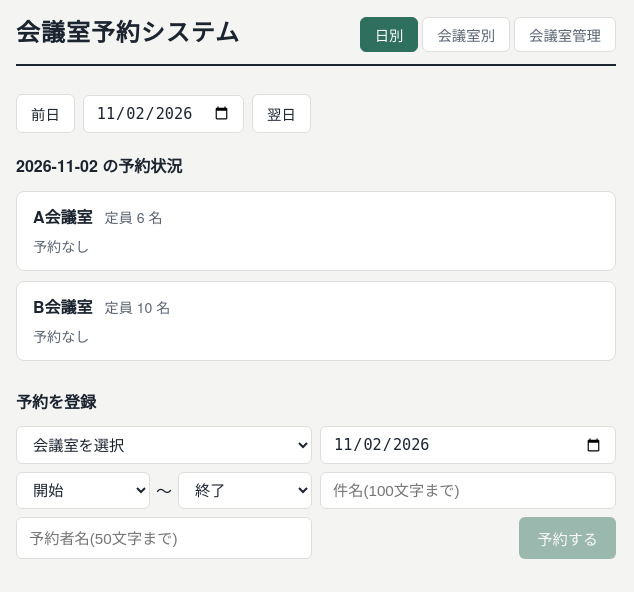
Test case: 会議室管理 › 編集ボタンで行がフォームになり、保存するとPUTが呼ばれ一覧に反映される
Click the button "会議室管理" at [565, 34], box left=514, top=17, right=616, bottom=52
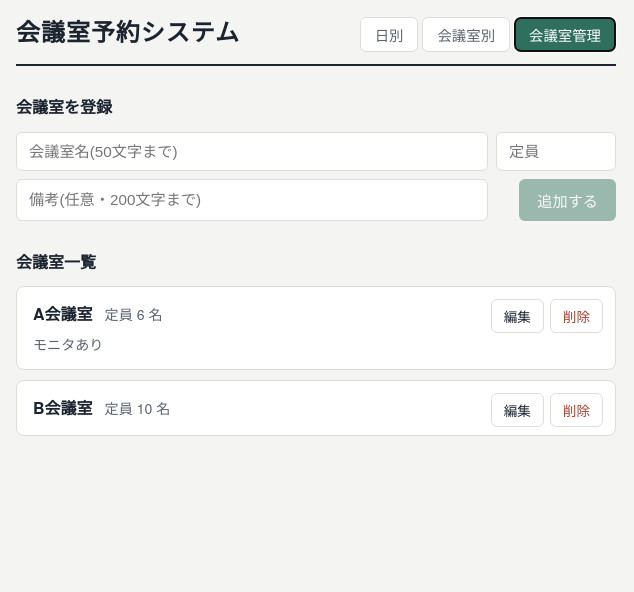
Expected: the text "A会議室" is shown, left=33, top=301, right=93, bottom=327
Click the button with aria-label "会議室「A会議室」を編集" at [517, 316], box left=491, top=299, right=544, bottom=333
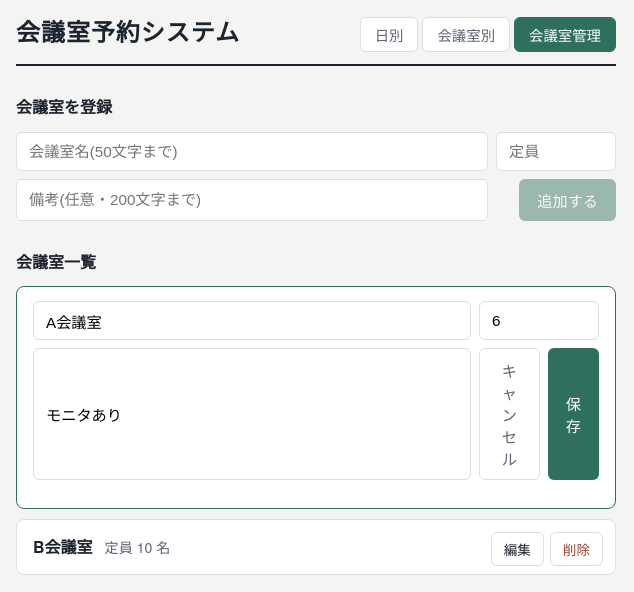
Result: the field named "会議室名" holds "A会議室" at left=33, top=301, right=471, bottom=340
Result: the number field named "定員" holds "6"
Result: the field named "備考" holds "モニタあり" at left=33, top=348, right=471, bottom=480
Replace the text in the number field named "定員" with "12" at [539, 321], box left=479, top=301, right=599, bottom=340
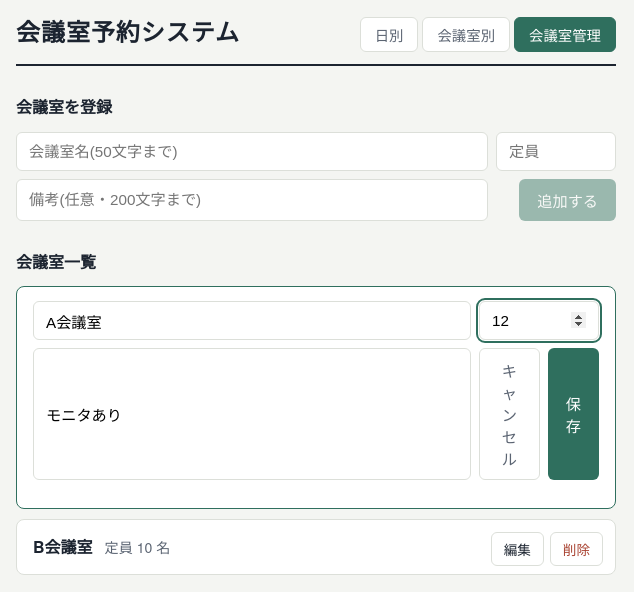
Click the button "保存" at [573, 414], box left=548, top=348, right=599, bottom=480
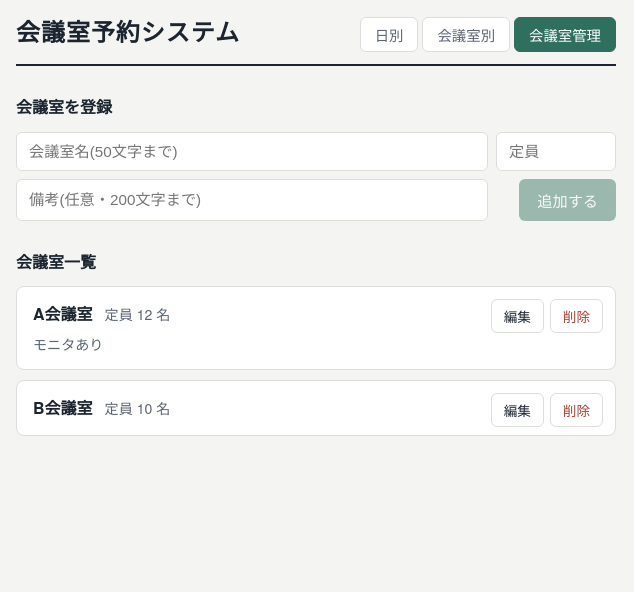
Result: the text "定員 12 名" is shown at left=105, top=303, right=170, bottom=326
